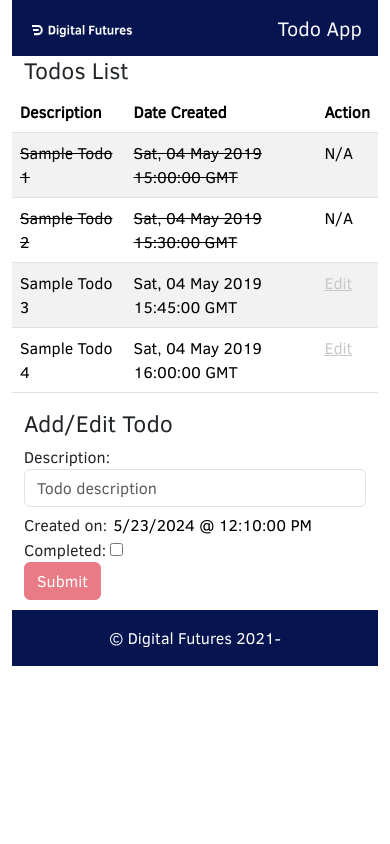
Test: App tests › Submit todo - add test › should display an error modal if service returns error
Type "Sample Test description" into the field with placeholder "Todo description".
click(195, 488); type("Sample Test description")  # box [24,468,366,506]
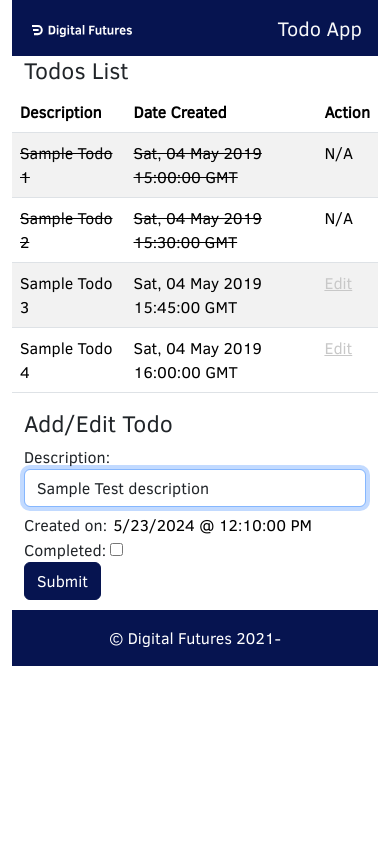
Click the button showing "submit".
click(62, 580)  # box [24,562,101,600]
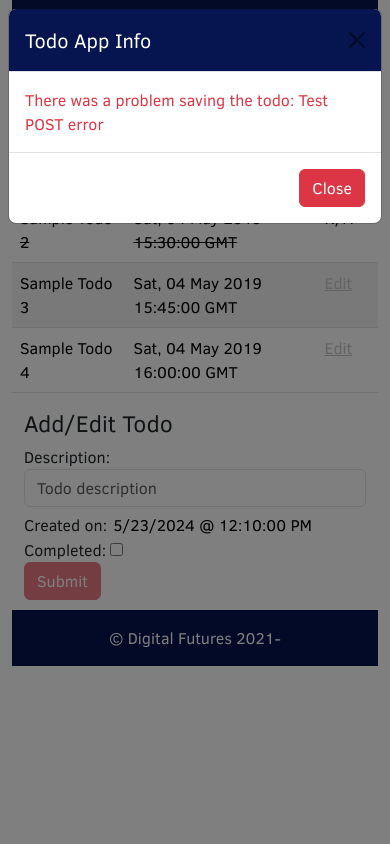
Check: the heading "Todo App Info" is shown, box [25,25,151,55]
